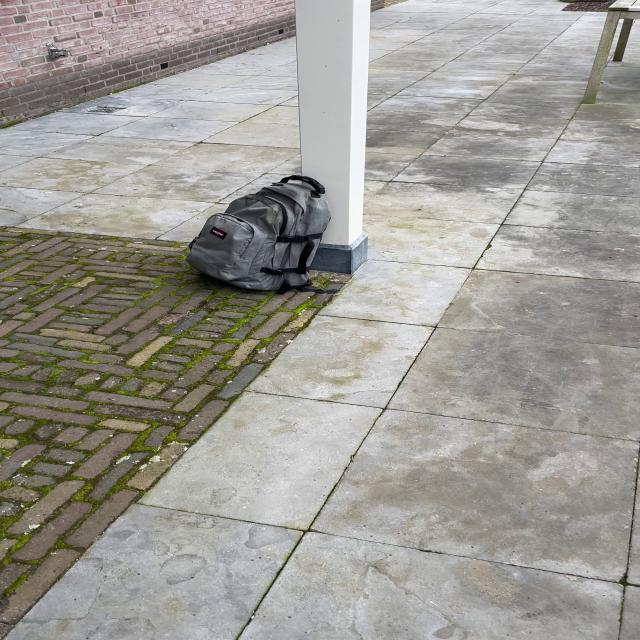backpack: (177, 173, 339, 295)
